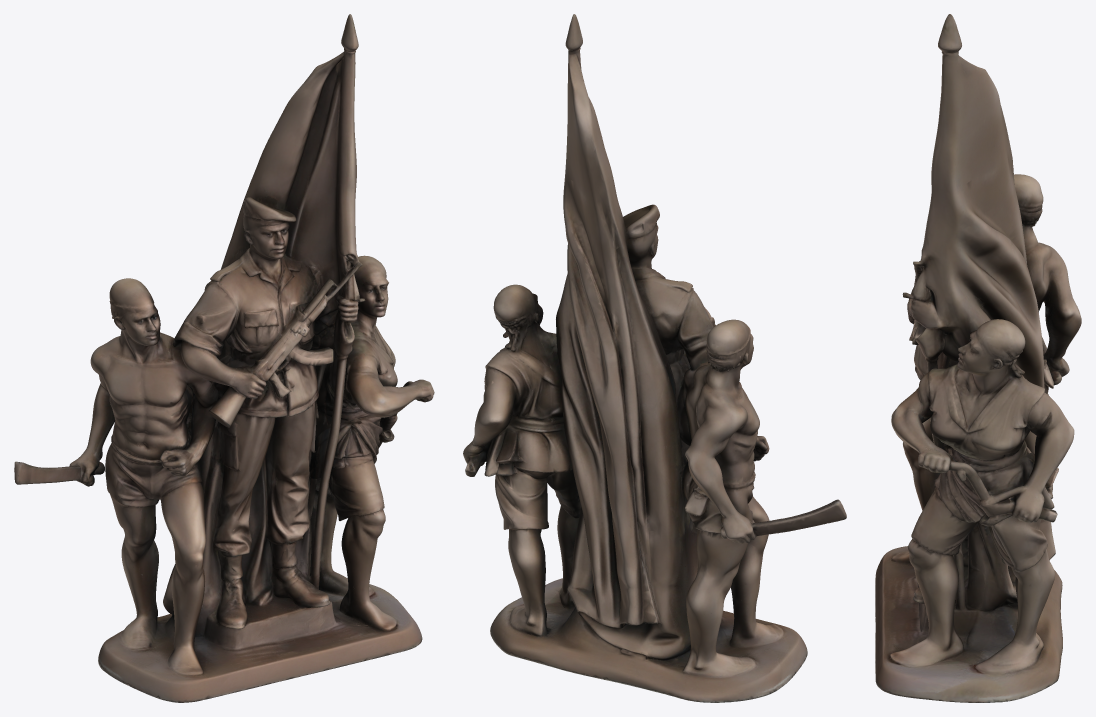
File: Meshy_AI__Place_texture.glb
3 views of the same model, side by side, from view 1: azimuth 30°, elevation 25°; view 2: azimuth 150°, elevation 25°; view 3: azimuth 270°, elevation 25° (orthographic). The views are drawn at different scales.
Size of the model in its own units: 1.29 by 2 by 0.5689.
Materials: 1 (1 with a texture image).
